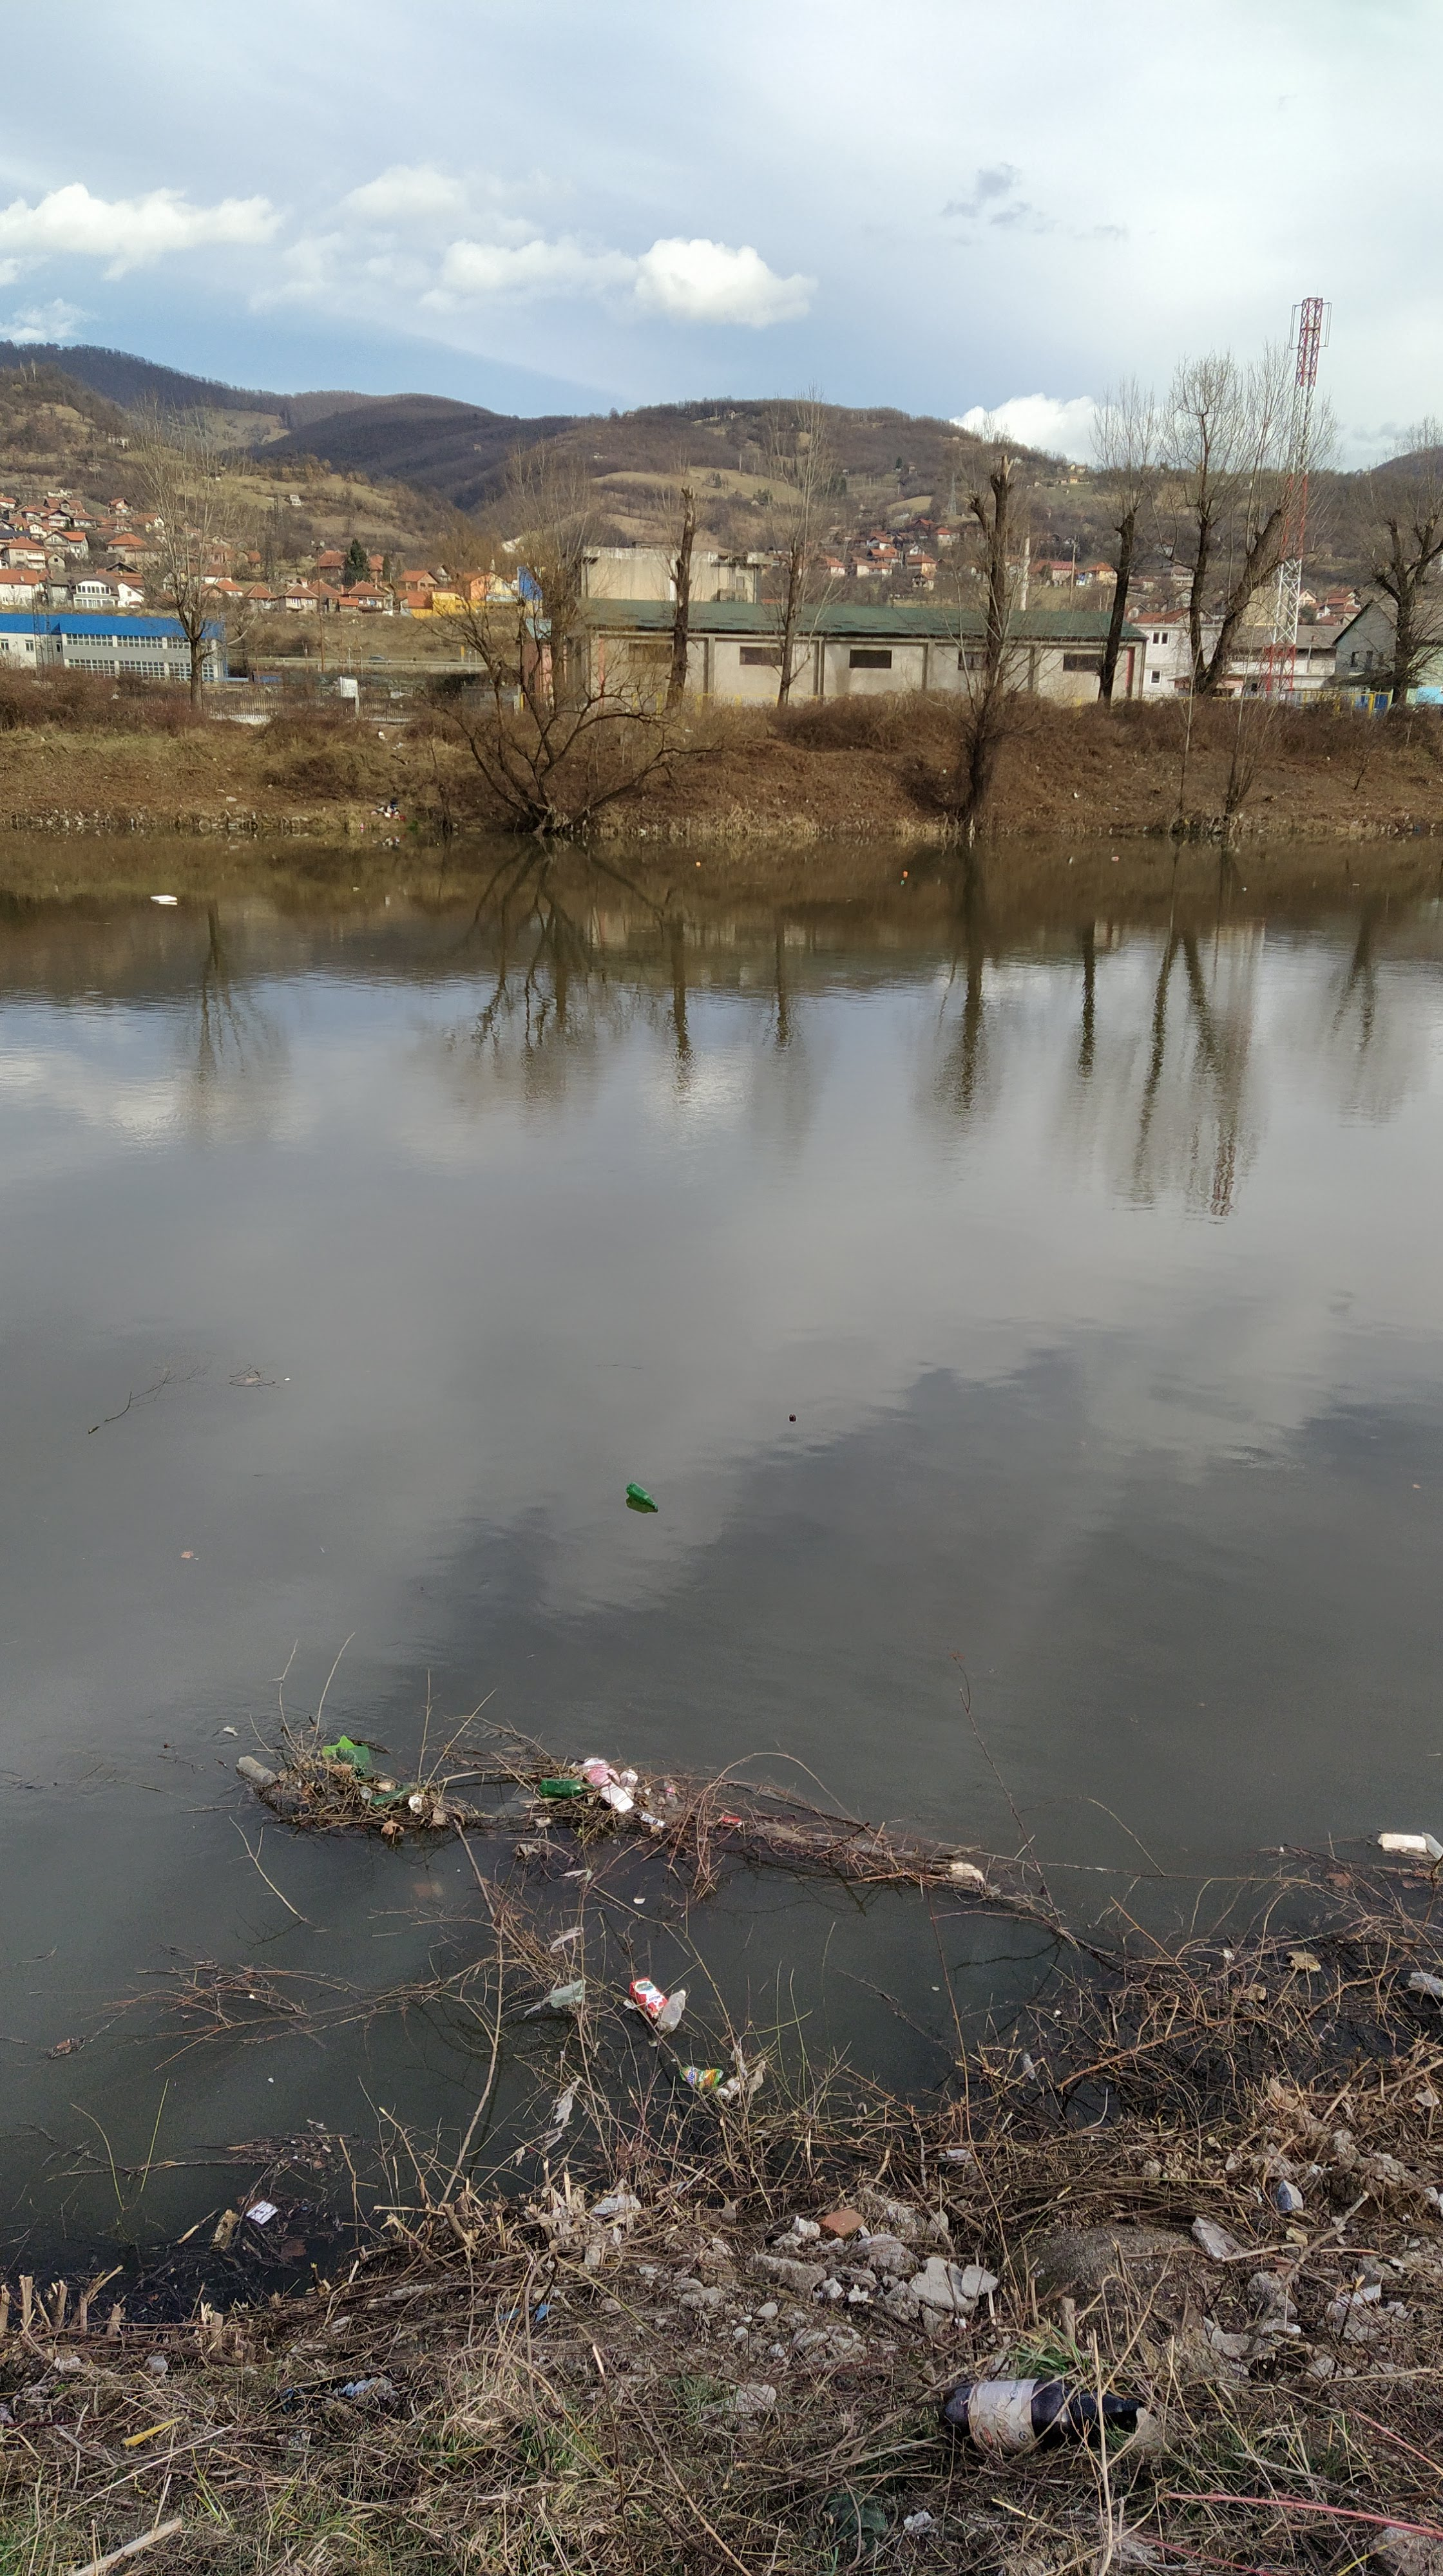Plastic Bottle: (372, 1782, 425, 1806), (657, 1989, 685, 2031), (538, 1778, 598, 1798), (237, 1755, 276, 1783), (625, 1483, 659, 1513), (682, 2066, 724, 2089), (335, 1746, 365, 1776), (1409, 1973, 1443, 1997), (1422, 1833, 1443, 1861), (664, 1778, 676, 1808), (359, 1785, 372, 1798), (1112, 856, 1119, 860)
